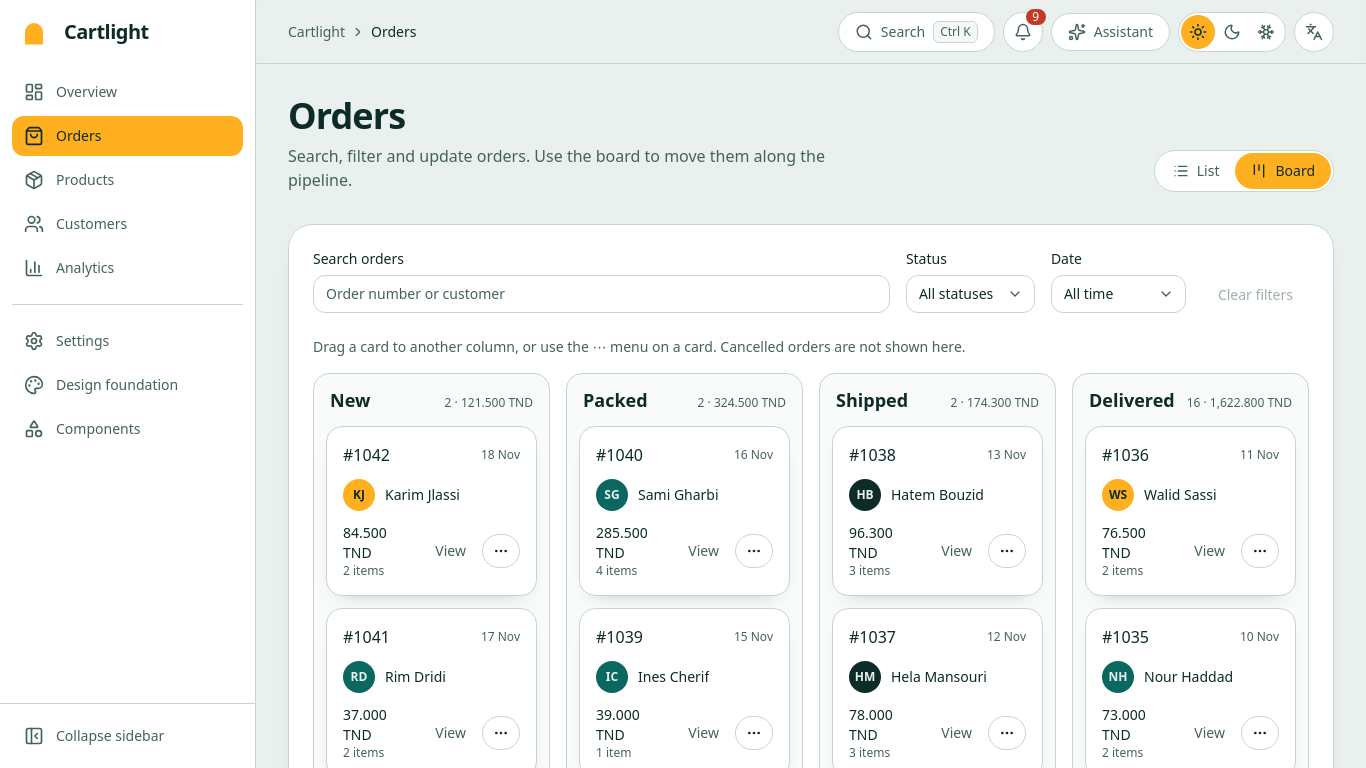
Test: orders board › moves a card with its menu, using only the keyboard
Check: the heading "New" is shown, box [330,386,370,414]
Check: the text "#1042" is shown, box [343,443,390,467]
Click the button named "Move order #1042": (501, 551) [482,534,520,568]
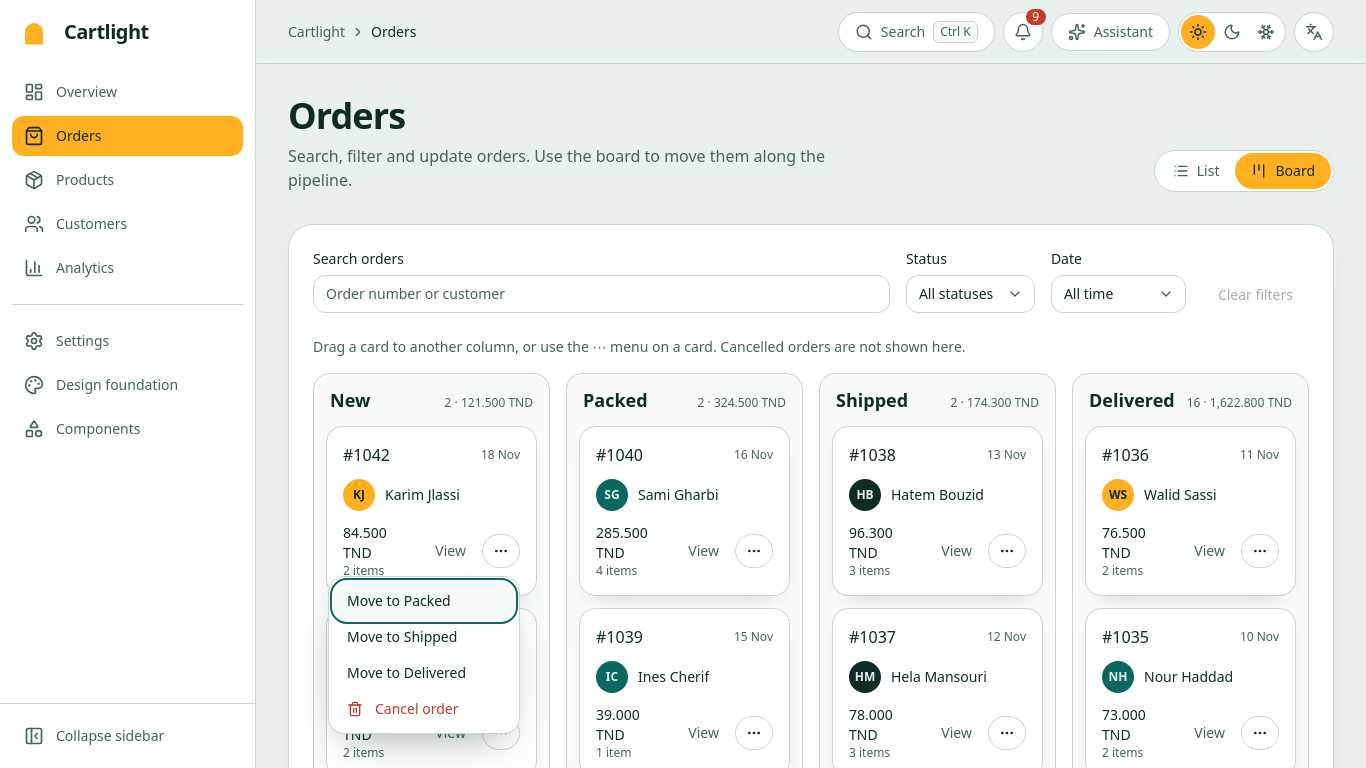
Press Enter
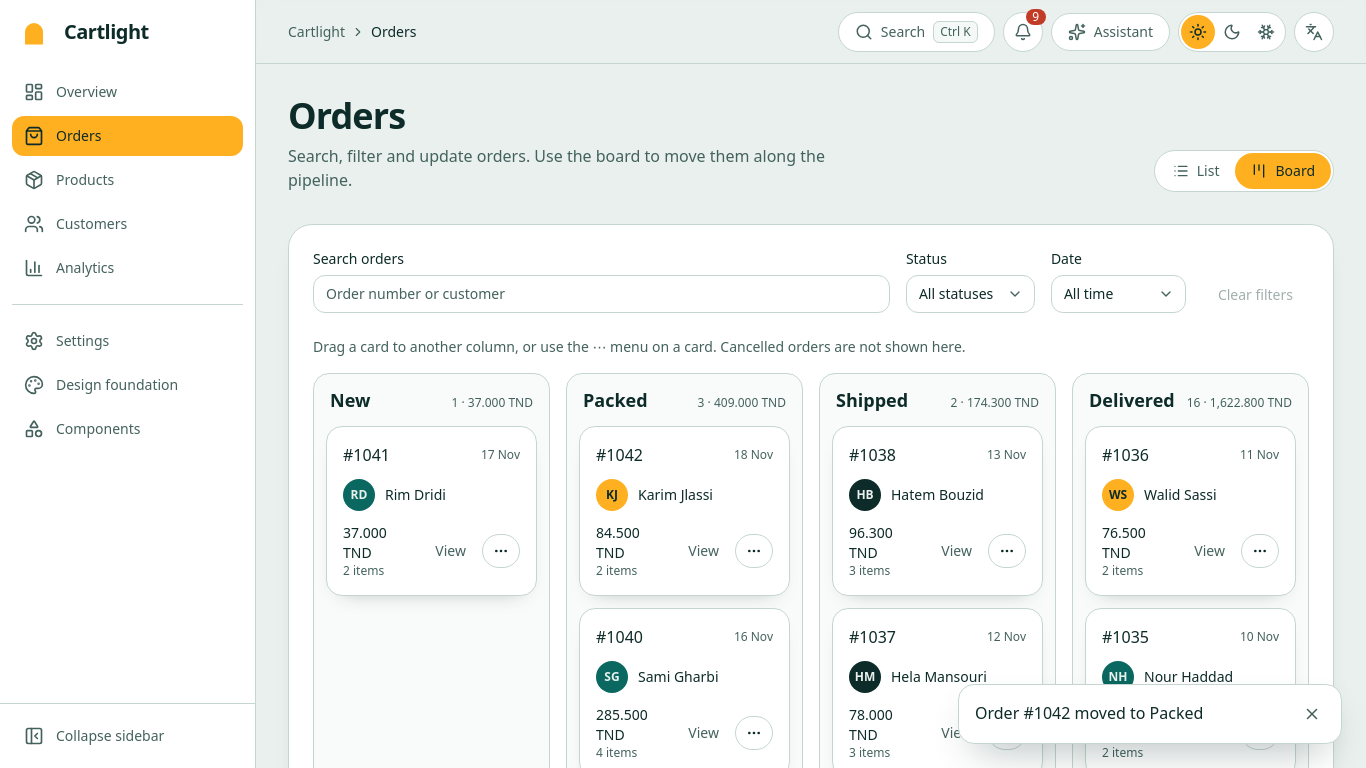
Check: the text "#1042" is shown, box [596,443,643,467]
Check: the text "Order #1042 moved to Packed" is shown, box [975,702,1203,724]
